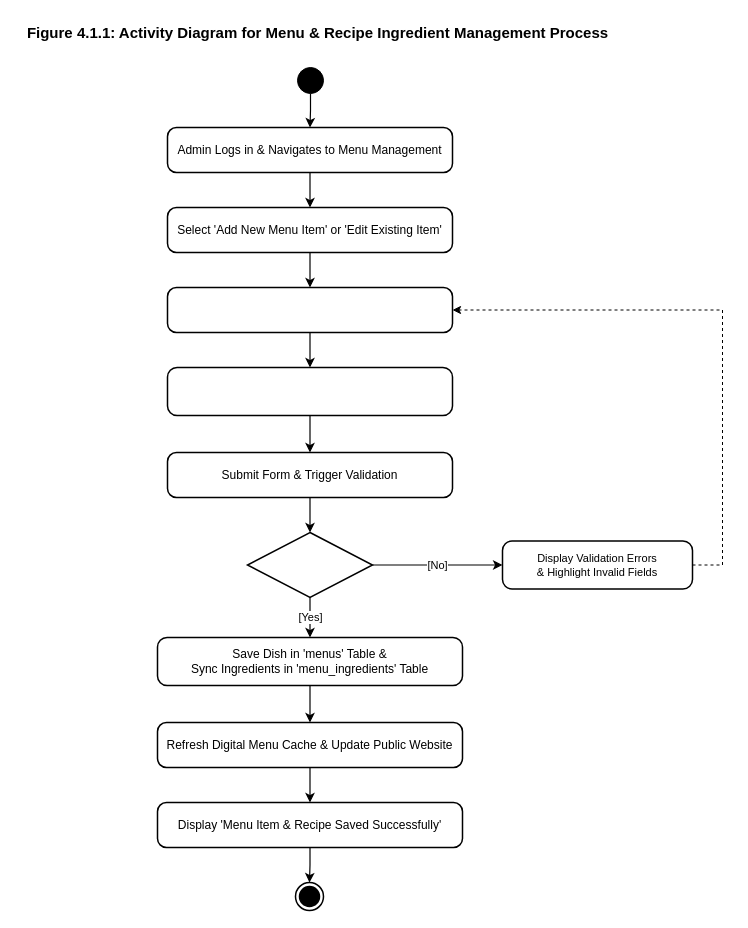
This 748x928 diagram has some shape labels left out. Here are the shapes that lost their labels. From the top down, the centre of each, then its label:
At (309,309): "Enter Name, Category, Price, Description & Image".
At (309,391): "Configure Recipe: Link Inventory Items & Specify 'Quantity Required per Dish'".
At (309,564): "Validation Passed?".
